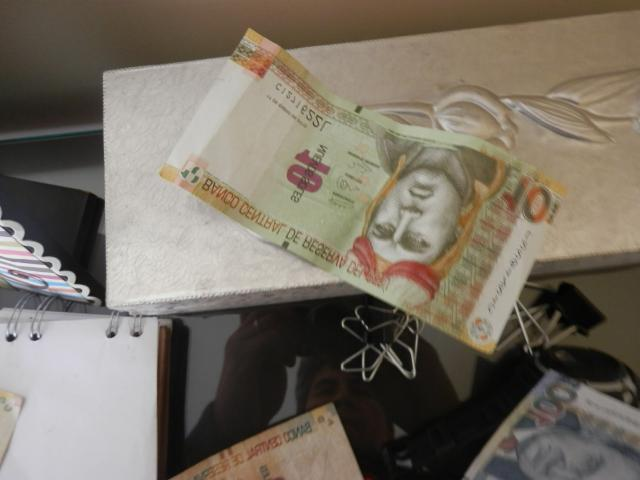B10: (162, 29, 560, 360)
